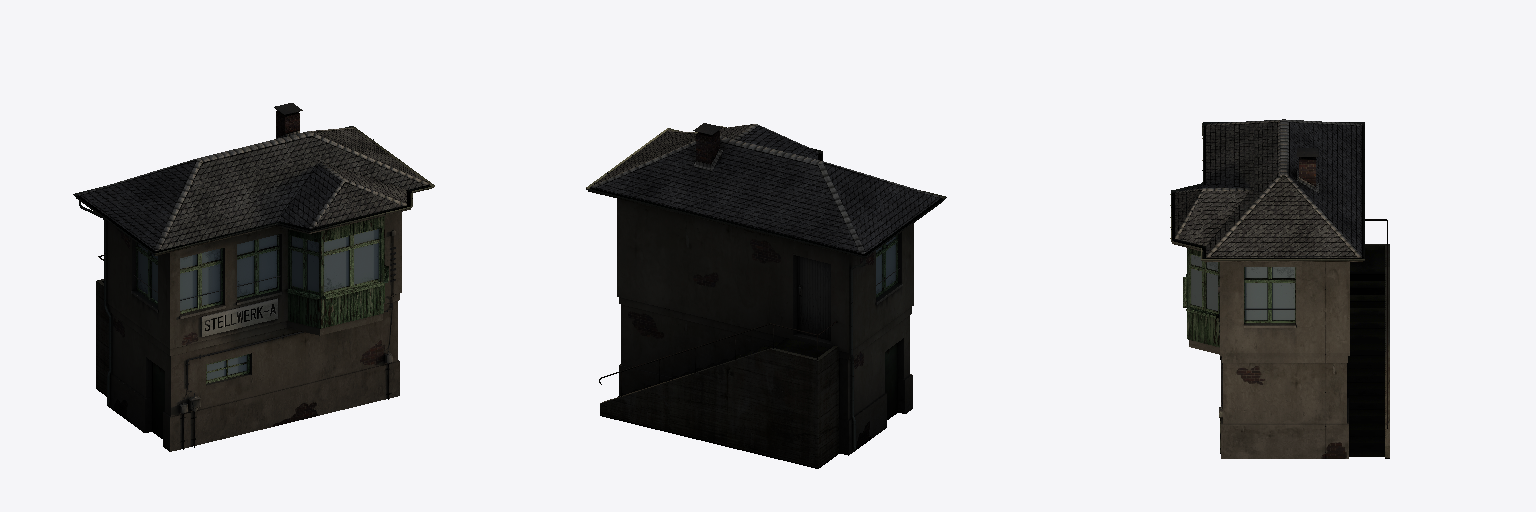
3 renders of one model, left to right at view 1: azimuth 30°, elevation 25°; view 2: azimuth 150°, elevation 25°; view 3: azimuth 270°, elevation 25°, orthographic.
Parts seen in each view (by area): view 1: stellwerk, dach, fensterglas, fensterrahmen, RegenrinneGelaender.001, DetailSchild, trepperand; view 2: stellwerk, dach, trepperand, RegenrinneGelaender.001, fensterglas; view 3: stellwerk, dach, trepperand, fensterglas, RegenrinneGelaender.001, fensterrahmen.
Boxes of the visible parts, x1=… form: stellwerk: x1=76, y1=185, x2=431, y2=451; dach: x1=78, y1=103, x2=429, y2=251; fensterglas: x1=138, y1=229, x2=378, y2=379; fensterrahmen: x1=135, y1=228, x2=388, y2=383; RegenrinneGelaender.001: x1=73, y1=126, x2=434, y2=404; DetailSchild: x1=179, y1=230, x2=395, y2=449; trepperand: x1=96, y1=279, x2=108, y2=396; stellwerk: x1=588, y1=190, x2=942, y2=455; dach: x1=590, y1=123, x2=941, y2=253; trepperand: x1=600, y1=338, x2=839, y2=468; RegenrinneGelaender.001: x1=586, y1=126, x2=946, y2=449; fensterglas: x1=876, y1=237, x2=895, y2=293; stellwerk: x1=1172, y1=184, x2=1362, y2=458; dach: x1=1175, y1=119, x2=1361, y2=257; trepperand: x1=1347, y1=244, x2=1389, y2=458; fensterglas: x1=1191, y1=255, x2=1294, y2=319; RegenrinneGelaender.001: x1=1170, y1=122, x2=1387, y2=428; fensterrahmen: x1=1183, y1=254, x2=1295, y2=322.
Bounding box in the file's own units: 7.03 × 7.08 × 4.75.
Materials: 8 (7 with a texture image).